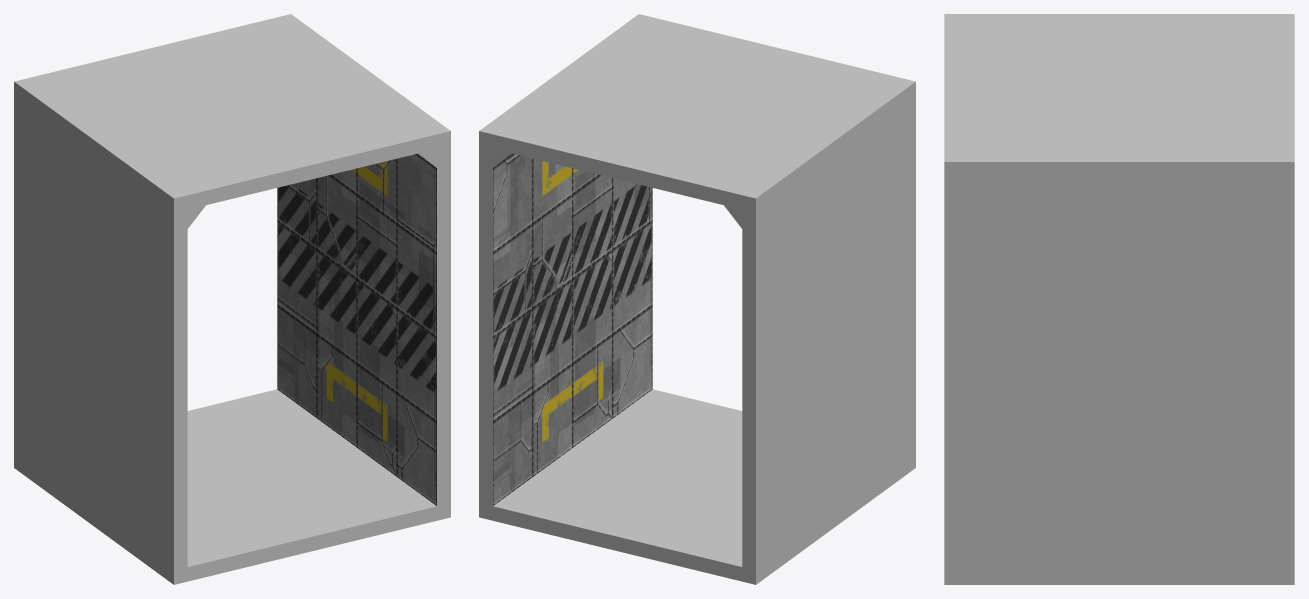
3 views of the same model, side by side, from view 1: azimuth 30°, elevation 25°; view 2: azimuth 150°, elevation 25°; view 3: azimuth 270°, elevation 25° (orthographic). The views are drawn at different scales.
Visible parts, largest first — view 1: Body; view 2: Body; view 3: Body.
Boxes of the visible parts, box(x1,y1,x2,y2) form: Body: box(14, 14, 450, 584); Body: box(479, 14, 915, 584); Body: box(944, 14, 1294, 584).
Bounding box in the file's own units: 1.5 × 2 × 1.5.
Materials: 3 (2 with a texture image).
